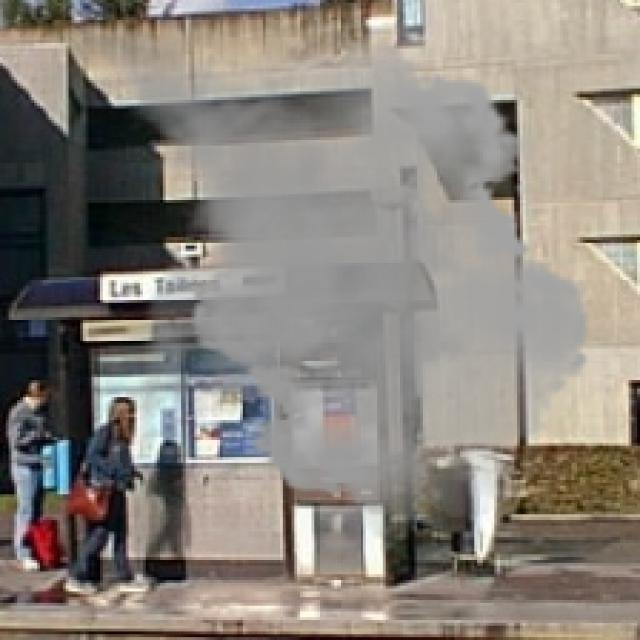smoke: (49, 12, 606, 554)
